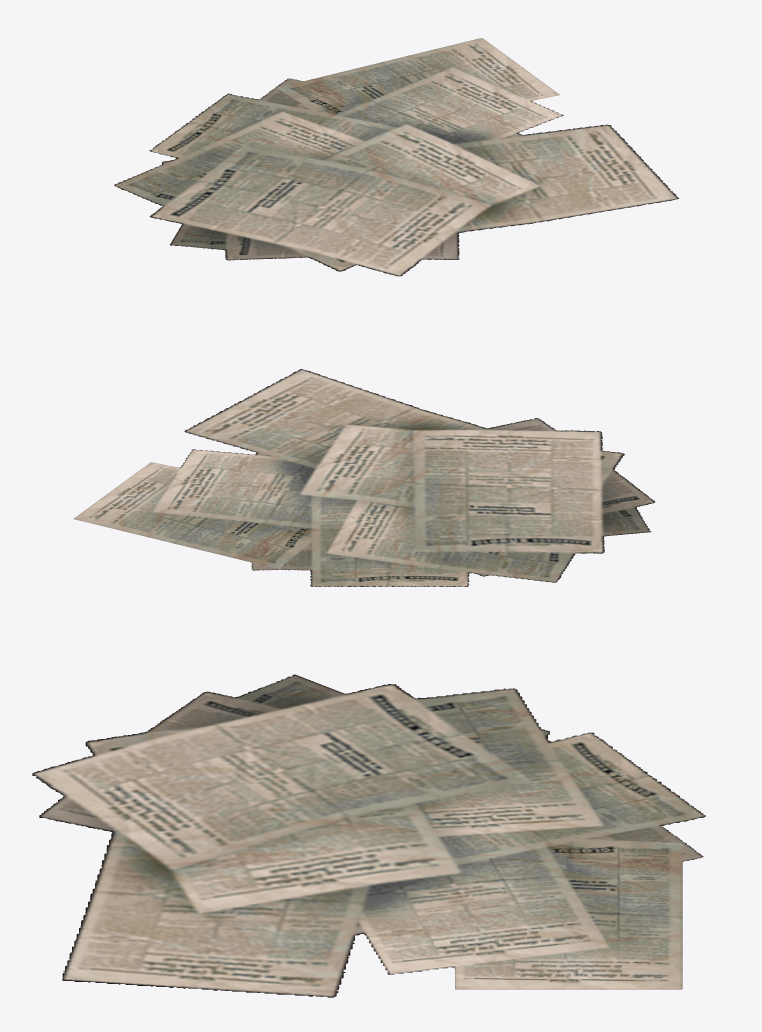
Rendered from Loose_Papers.FBX.
3 views of the same model, one above another, from view 1: azimuth 30°, elevation 25°; view 2: azimuth 150°, elevation 25°; view 3: azimuth 270°, elevation 25° (orthographic). The views are drawn at different scales.
Parts seen in each view (by area): view 1: Loose_Papers; view 2: Loose_Papers; view 3: Loose_Papers.
Part boxes in pixels (x1,y1,x2,y2): Loose_Papers: (114, 38, 678, 276); Loose_Papers: (74, 369, 654, 586); Loose_Papers: (32, 674, 705, 997).
Bounding box in the file's own units: 2316 × 44.66 × 2091.
1 material, 1 textured.
